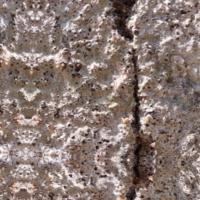crack: (92, 0, 163, 199)
